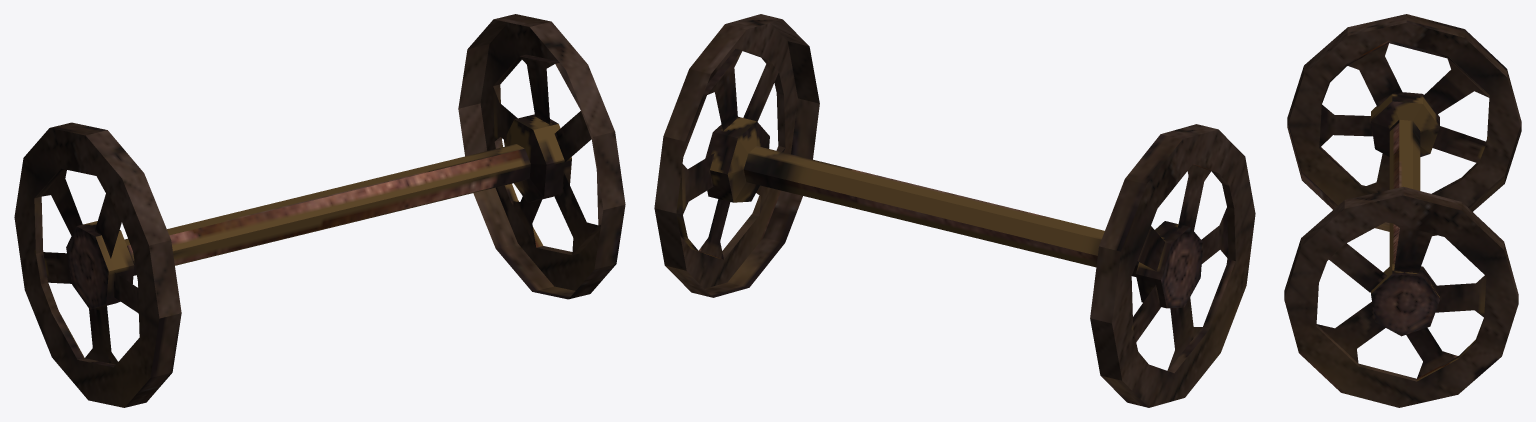
Rendered from wagonwheel_rear.glb.
3 views of the same model, side by side, from view 1: azimuth 30°, elevation 25°; view 2: azimuth 150°, elevation 25°; view 3: azimuth 270°, elevation 25° (orthographic). The views are drawn at different scales.
Parts seen in each view (by area): view 1: wagonwheel_rear; view 2: wagonwheel_rear; view 3: wagonwheel_rear.
Part boxes in pixels (left/top/right/bottom): wagonwheel_rear: left=14, top=14, right=625, bottom=407; wagonwheel_rear: left=654, top=14, right=1255, bottom=407; wagonwheel_rear: left=1284, top=14, right=1521, bottom=407.
Bounding box in the file's own units: 2.61 × 1.42 × 1.43.
Materials: 1 (1 with a texture image).
